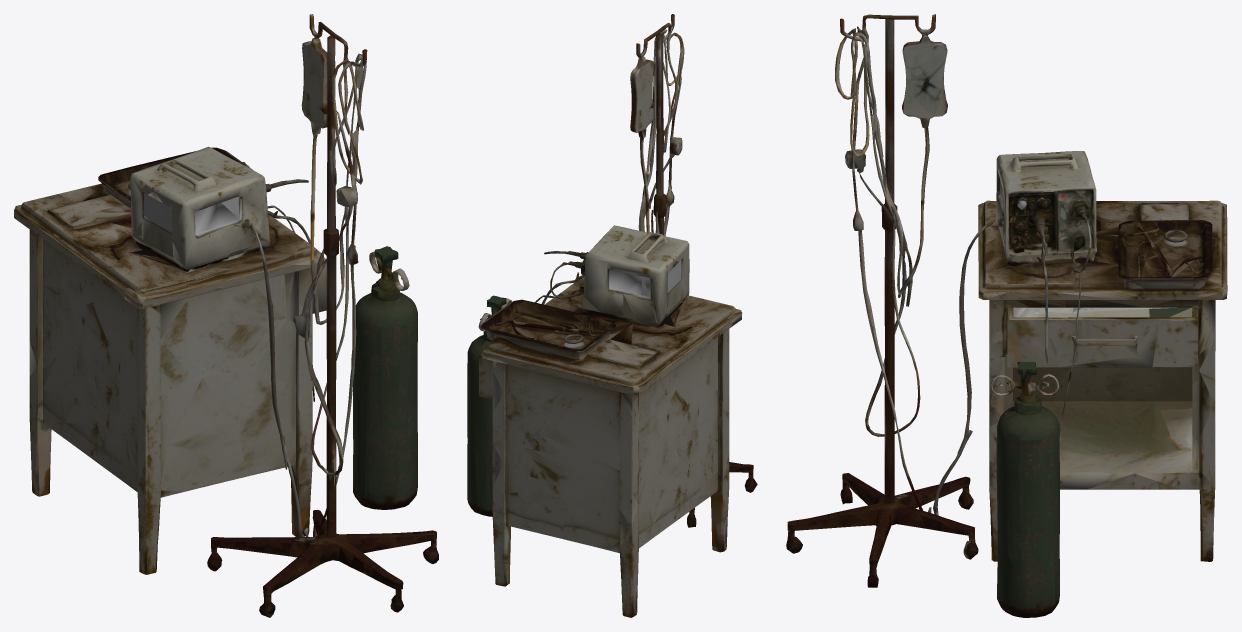
The model's file is maquinas.fbx.
3 views of the same model, side by side, from view 1: azimuth 30°, elevation 25°; view 2: azimuth 150°, elevation 25°; view 3: azimuth 270°, elevation 25° (orthographic). The views are drawn at different scales.
Visible parts, largest first — view 1: tripo_node_77fbc1f0; view 2: tripo_node_77fbc1f0; view 3: tripo_node_77fbc1f0.
Part boxes in pixels (left/top/right/bottom): tripo_node_77fbc1f0: left=14, top=14, right=438, bottom=617; tripo_node_77fbc1f0: left=467, top=14, right=757, bottom=617; tripo_node_77fbc1f0: left=786, top=14, right=1227, bottom=617.
Size of the model in its own units: 57.28 by 99.95 by 74.86.
